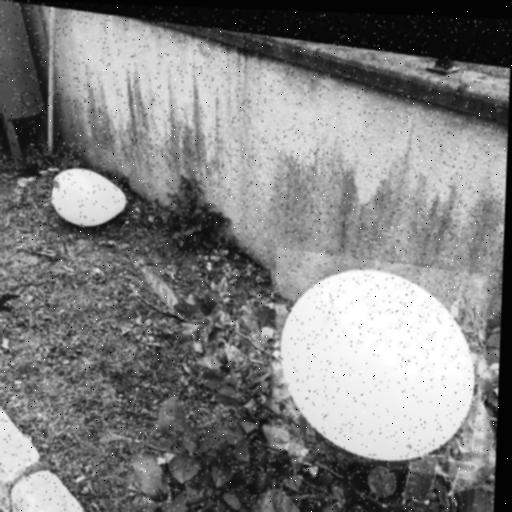balloon: (269, 242, 490, 471), (49, 164, 129, 229)
